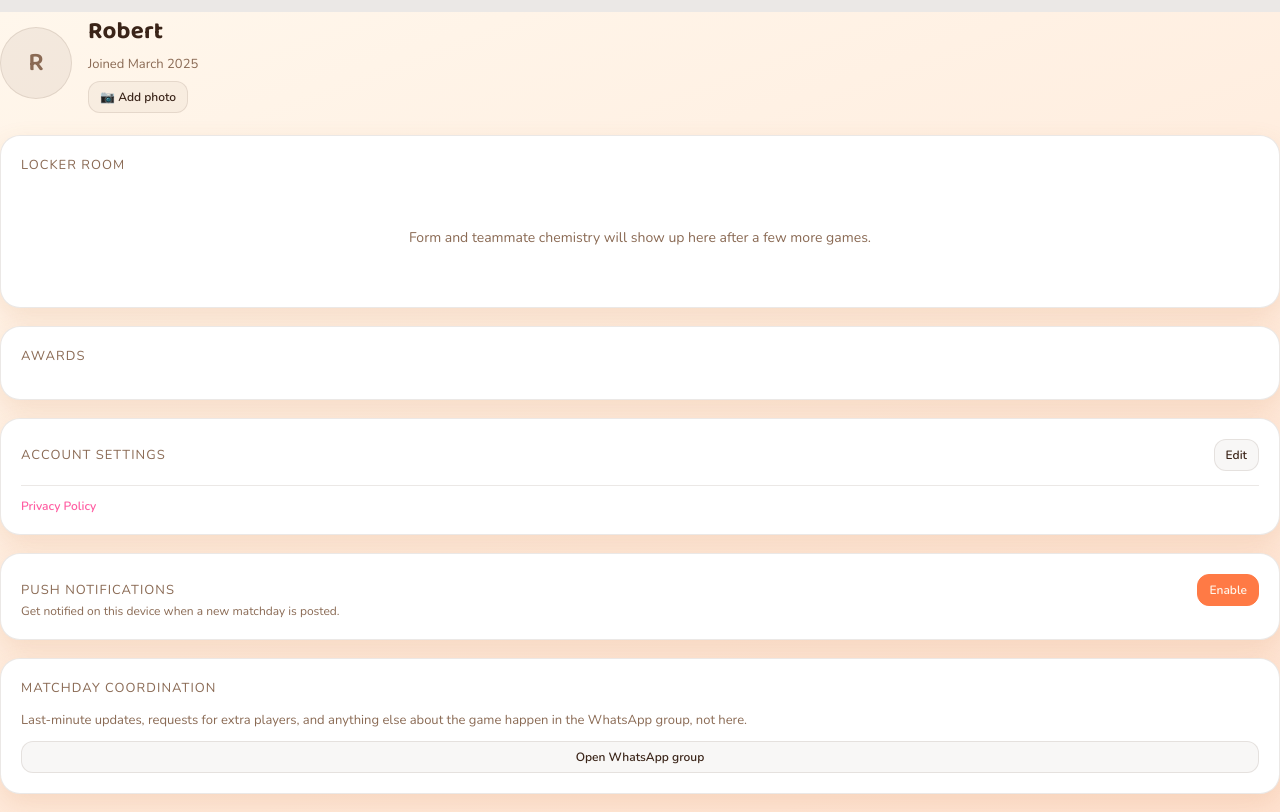
Scenario: PlayerProfile - push notifications › enables notifications
What coordinates should you click on to do the following:
click the button "Enable"
I would click on:
 (1228, 590)
Its box is [1197,574,1259,606].
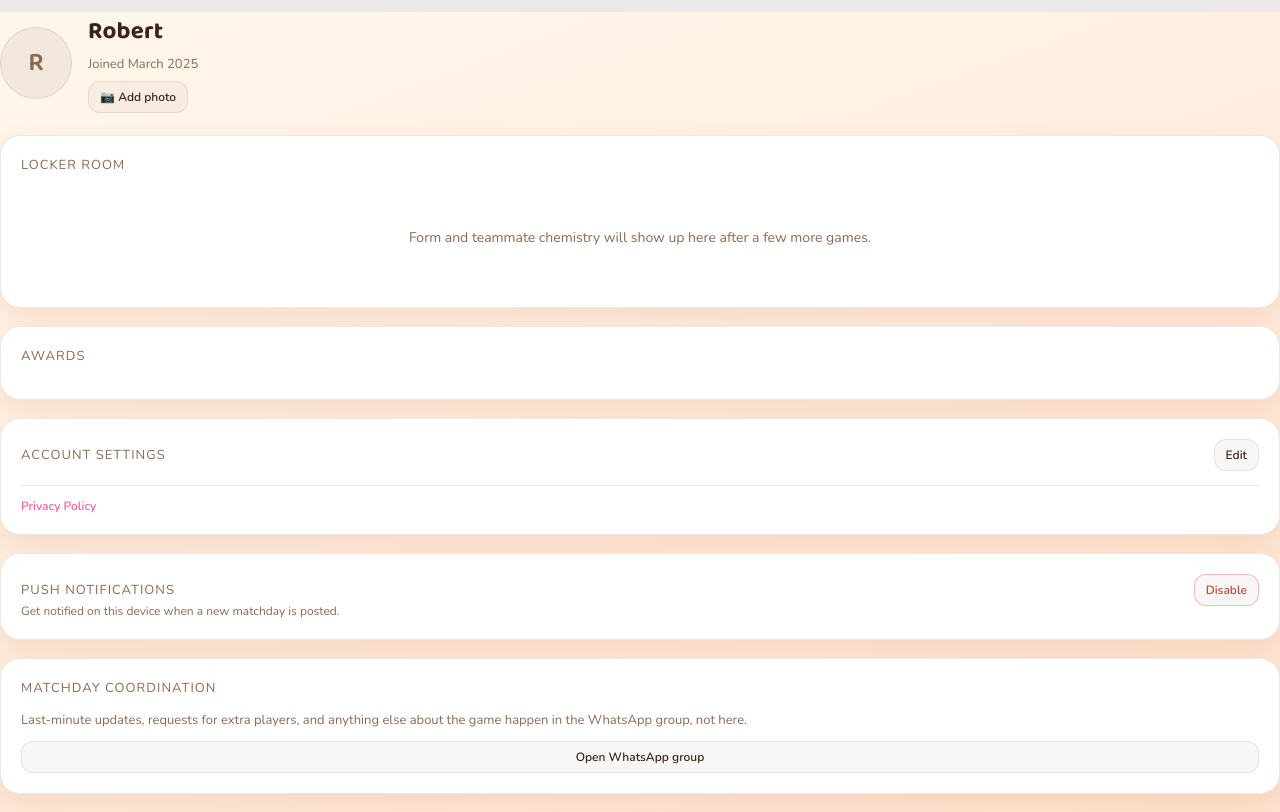
Result: the button "Disable" is shown at [1194,574,1259,606]
